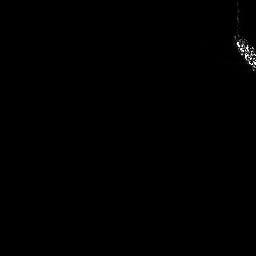ship: (231, 29, 256, 73)
